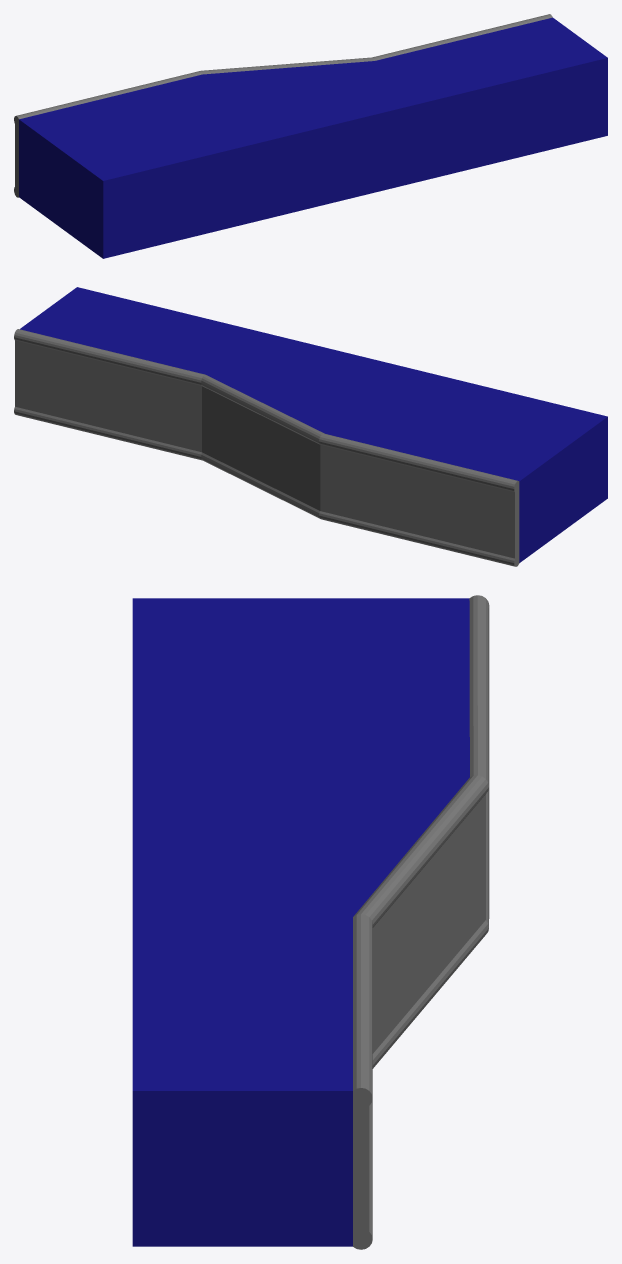
Rendered from Rail-Box Step-Up.fbx.
The picture shows the model from 3 angles, top to bottom: view 1: azimuth 30°, elevation 25°; view 2: azimuth 150°, elevation 25°; view 3: azimuth 270°, elevation 25°; orthographic projection. The views are drawn at different scales.
Parts seen in each view (by area): view 1: Rail-Box Step-Up; view 2: Rail-Box Step-Up; view 3: Rail-Box Step-Up.
Part boxes in pixels (box(x1,y1,x2,y2)): Rail-Box Step-Up: box(14, 14, 607, 258); Rail-Box Step-Up: box(14, 287, 607, 566); Rail-Box Step-Up: box(132, 595, 489, 1249).
Bounding box in the file's own units: 1000 × 153 × 306.
